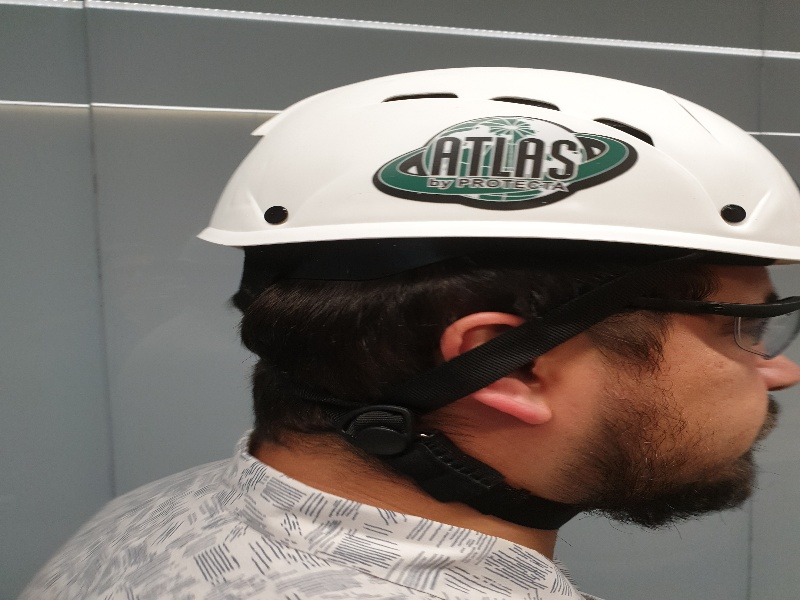Baret: (193, 65, 800, 259)
Gozluk: (620, 297, 800, 368)
